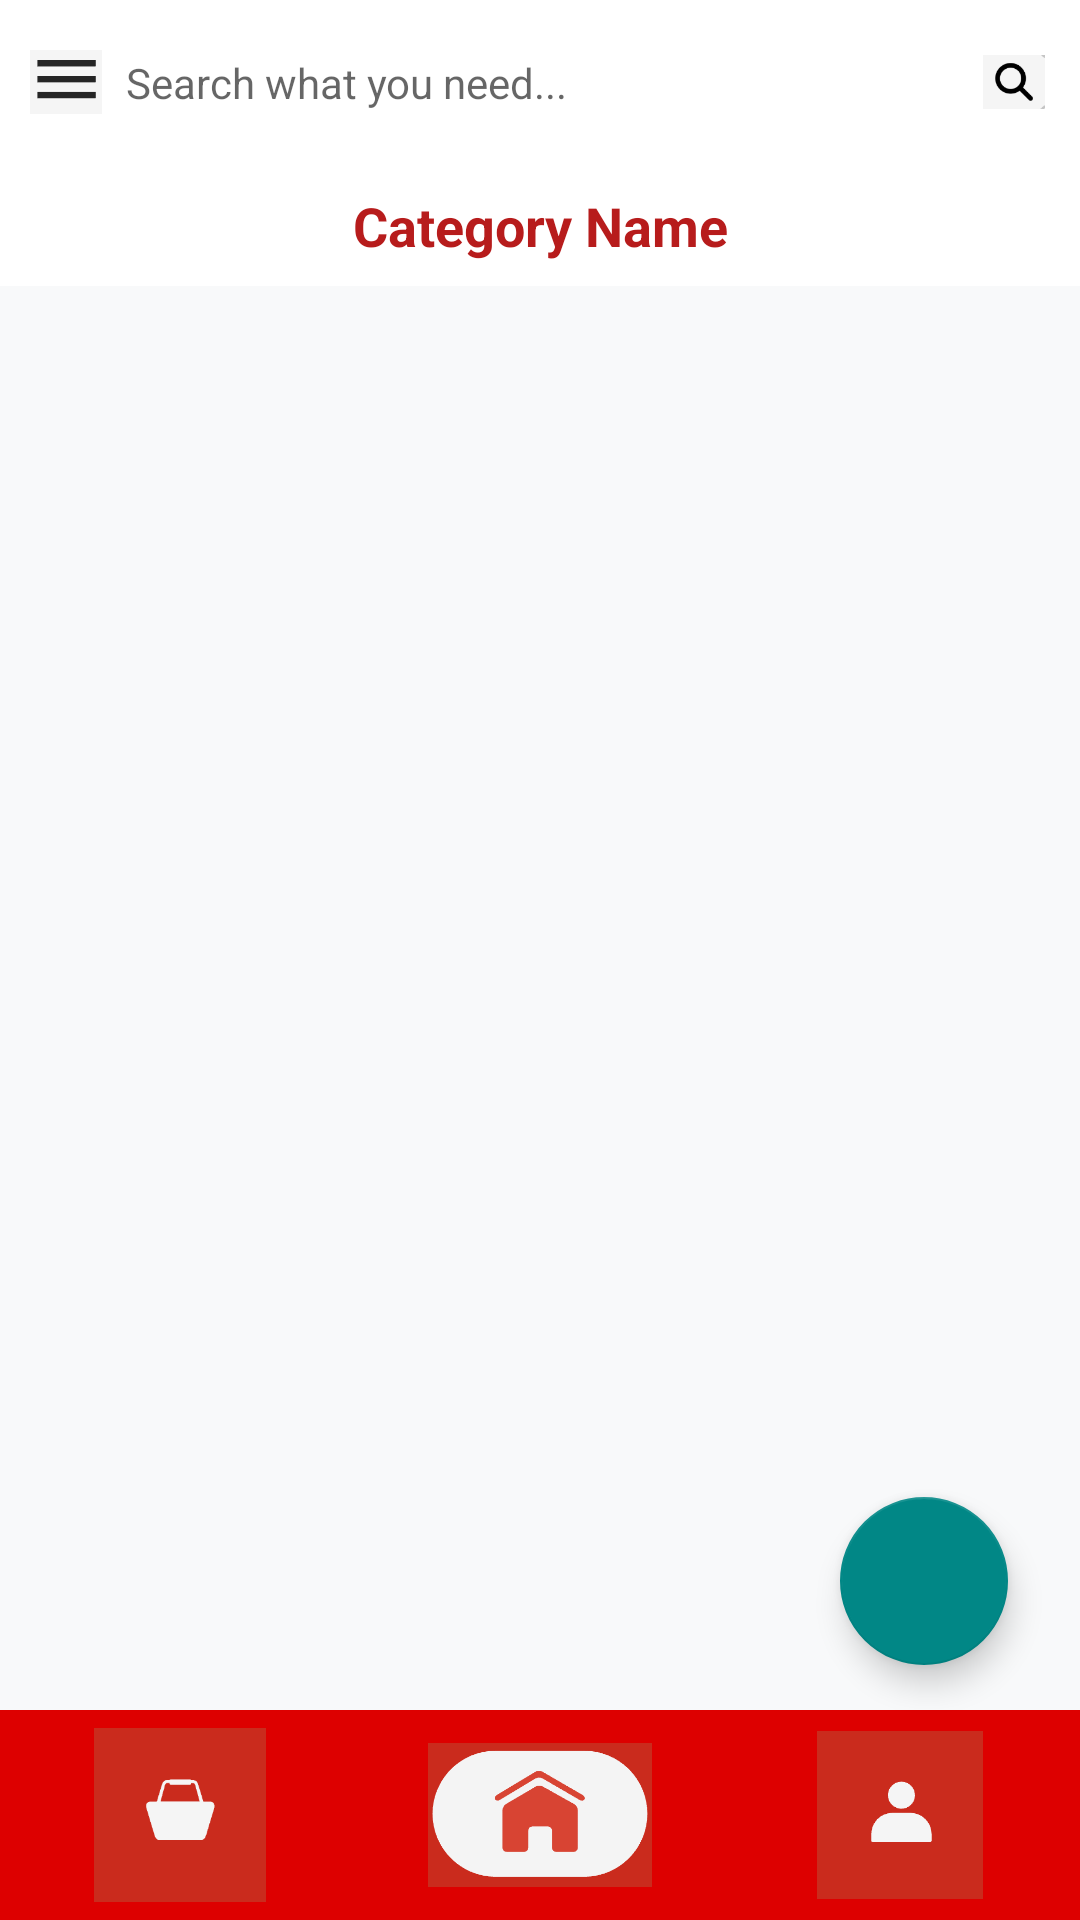

Icons on this 1080w x 1920h Android screen, each with its box as (x1, y1, x2, y2):
Cart: (94, 1728, 266, 1902)
Home: (428, 1743, 652, 1887)
Menu: (37, 60, 96, 99)
Profile: (817, 1731, 983, 1899)
